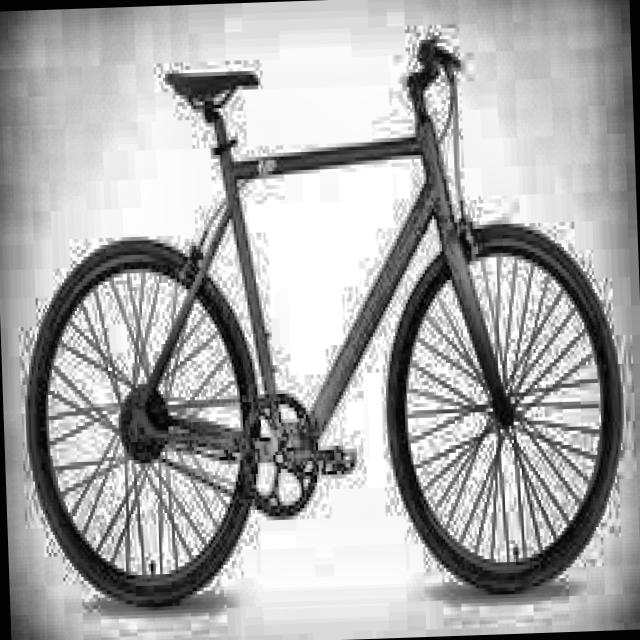bicycle: (13, 30, 632, 620)
